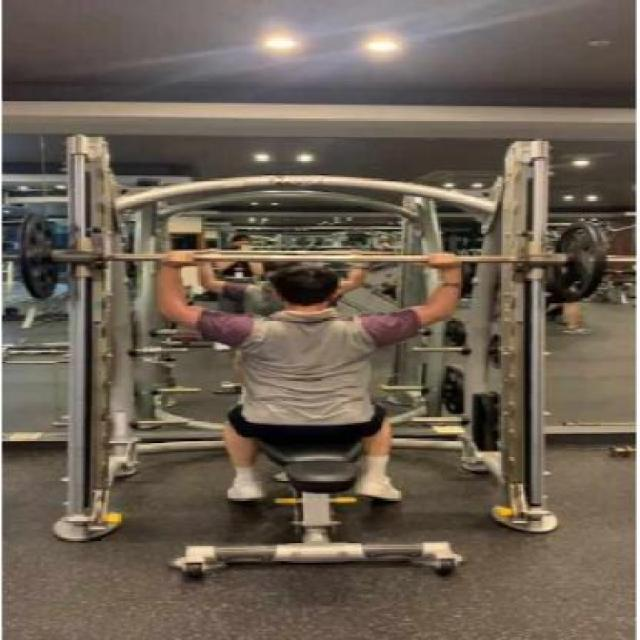smith machine: (54, 132, 561, 545)
